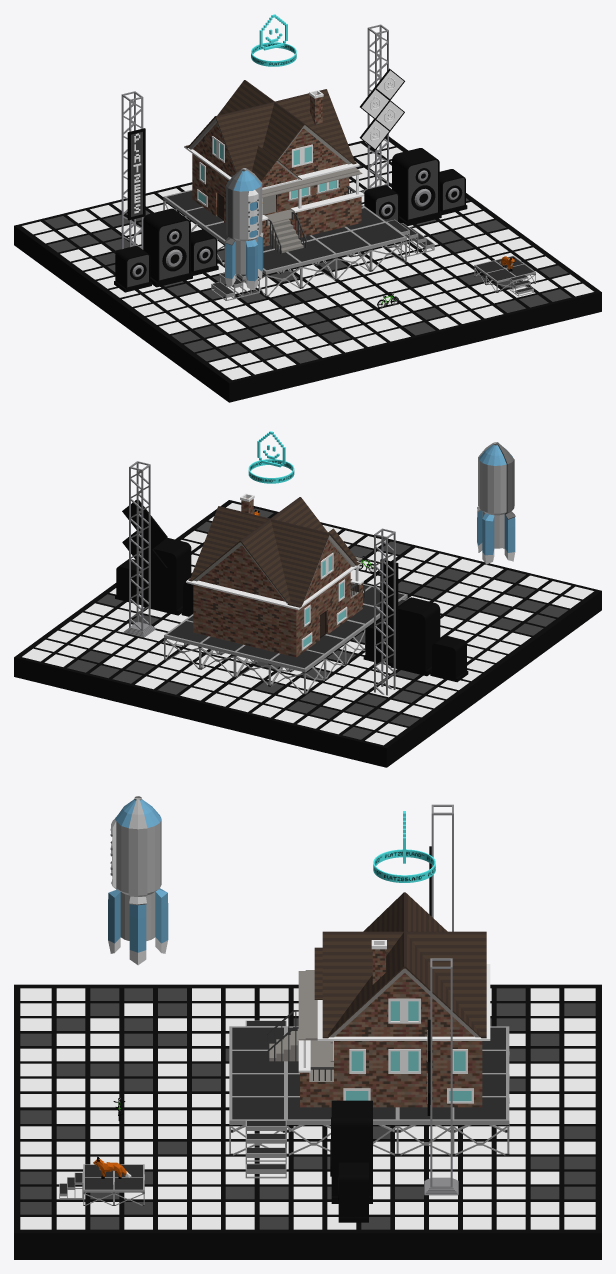
3 renders of one model, top to bottom at view 1: azimuth 30°, elevation 25°; view 2: azimuth 150°, elevation 25°; view 3: azimuth 270°, elevation 25°, orthographic. The views are drawn at different scales.
Visible parts, largest first — view 1: Cube.008, Cube.117, OBJRANDOM_ROCKETSHIP, TYPE_PREMIUM; view 2: Cube.008, Cube.117, OBJRANDOM_ROCKETSHIP, TYPE_PREMIUM; view 3: Cube.008, Cube.117, OBJRANDOM_ROCKETSHIP, TYPE_PREMIUM.
Part boxes in pixels (x1,y1,x2,y2): Cube.008: (14, 24, 601, 402); Cube.117: (184, 80, 364, 254); OBJRANDOM_ROCKETSHIP: (224, 168, 263, 290); TYPE_PREMIUM: (251, 14, 296, 66); Cube.008: (14, 461, 601, 767); Cube.117: (186, 493, 365, 657); OBJRANDOM_ROCKETSHIP: (477, 442, 515, 564); TYPE_PREMIUM: (248, 431, 294, 483); Cube.008: (14, 804, 601, 1259); Cube.117: (267, 892, 490, 1107); OBJRANDOM_ROCKETSHIP: (108, 796, 168, 965); TYPE_PREMIUM: (373, 811, 435, 882).
Size of the model in its own units: 4000 by 2612 by 4000.
39 materials, 3 textured.
